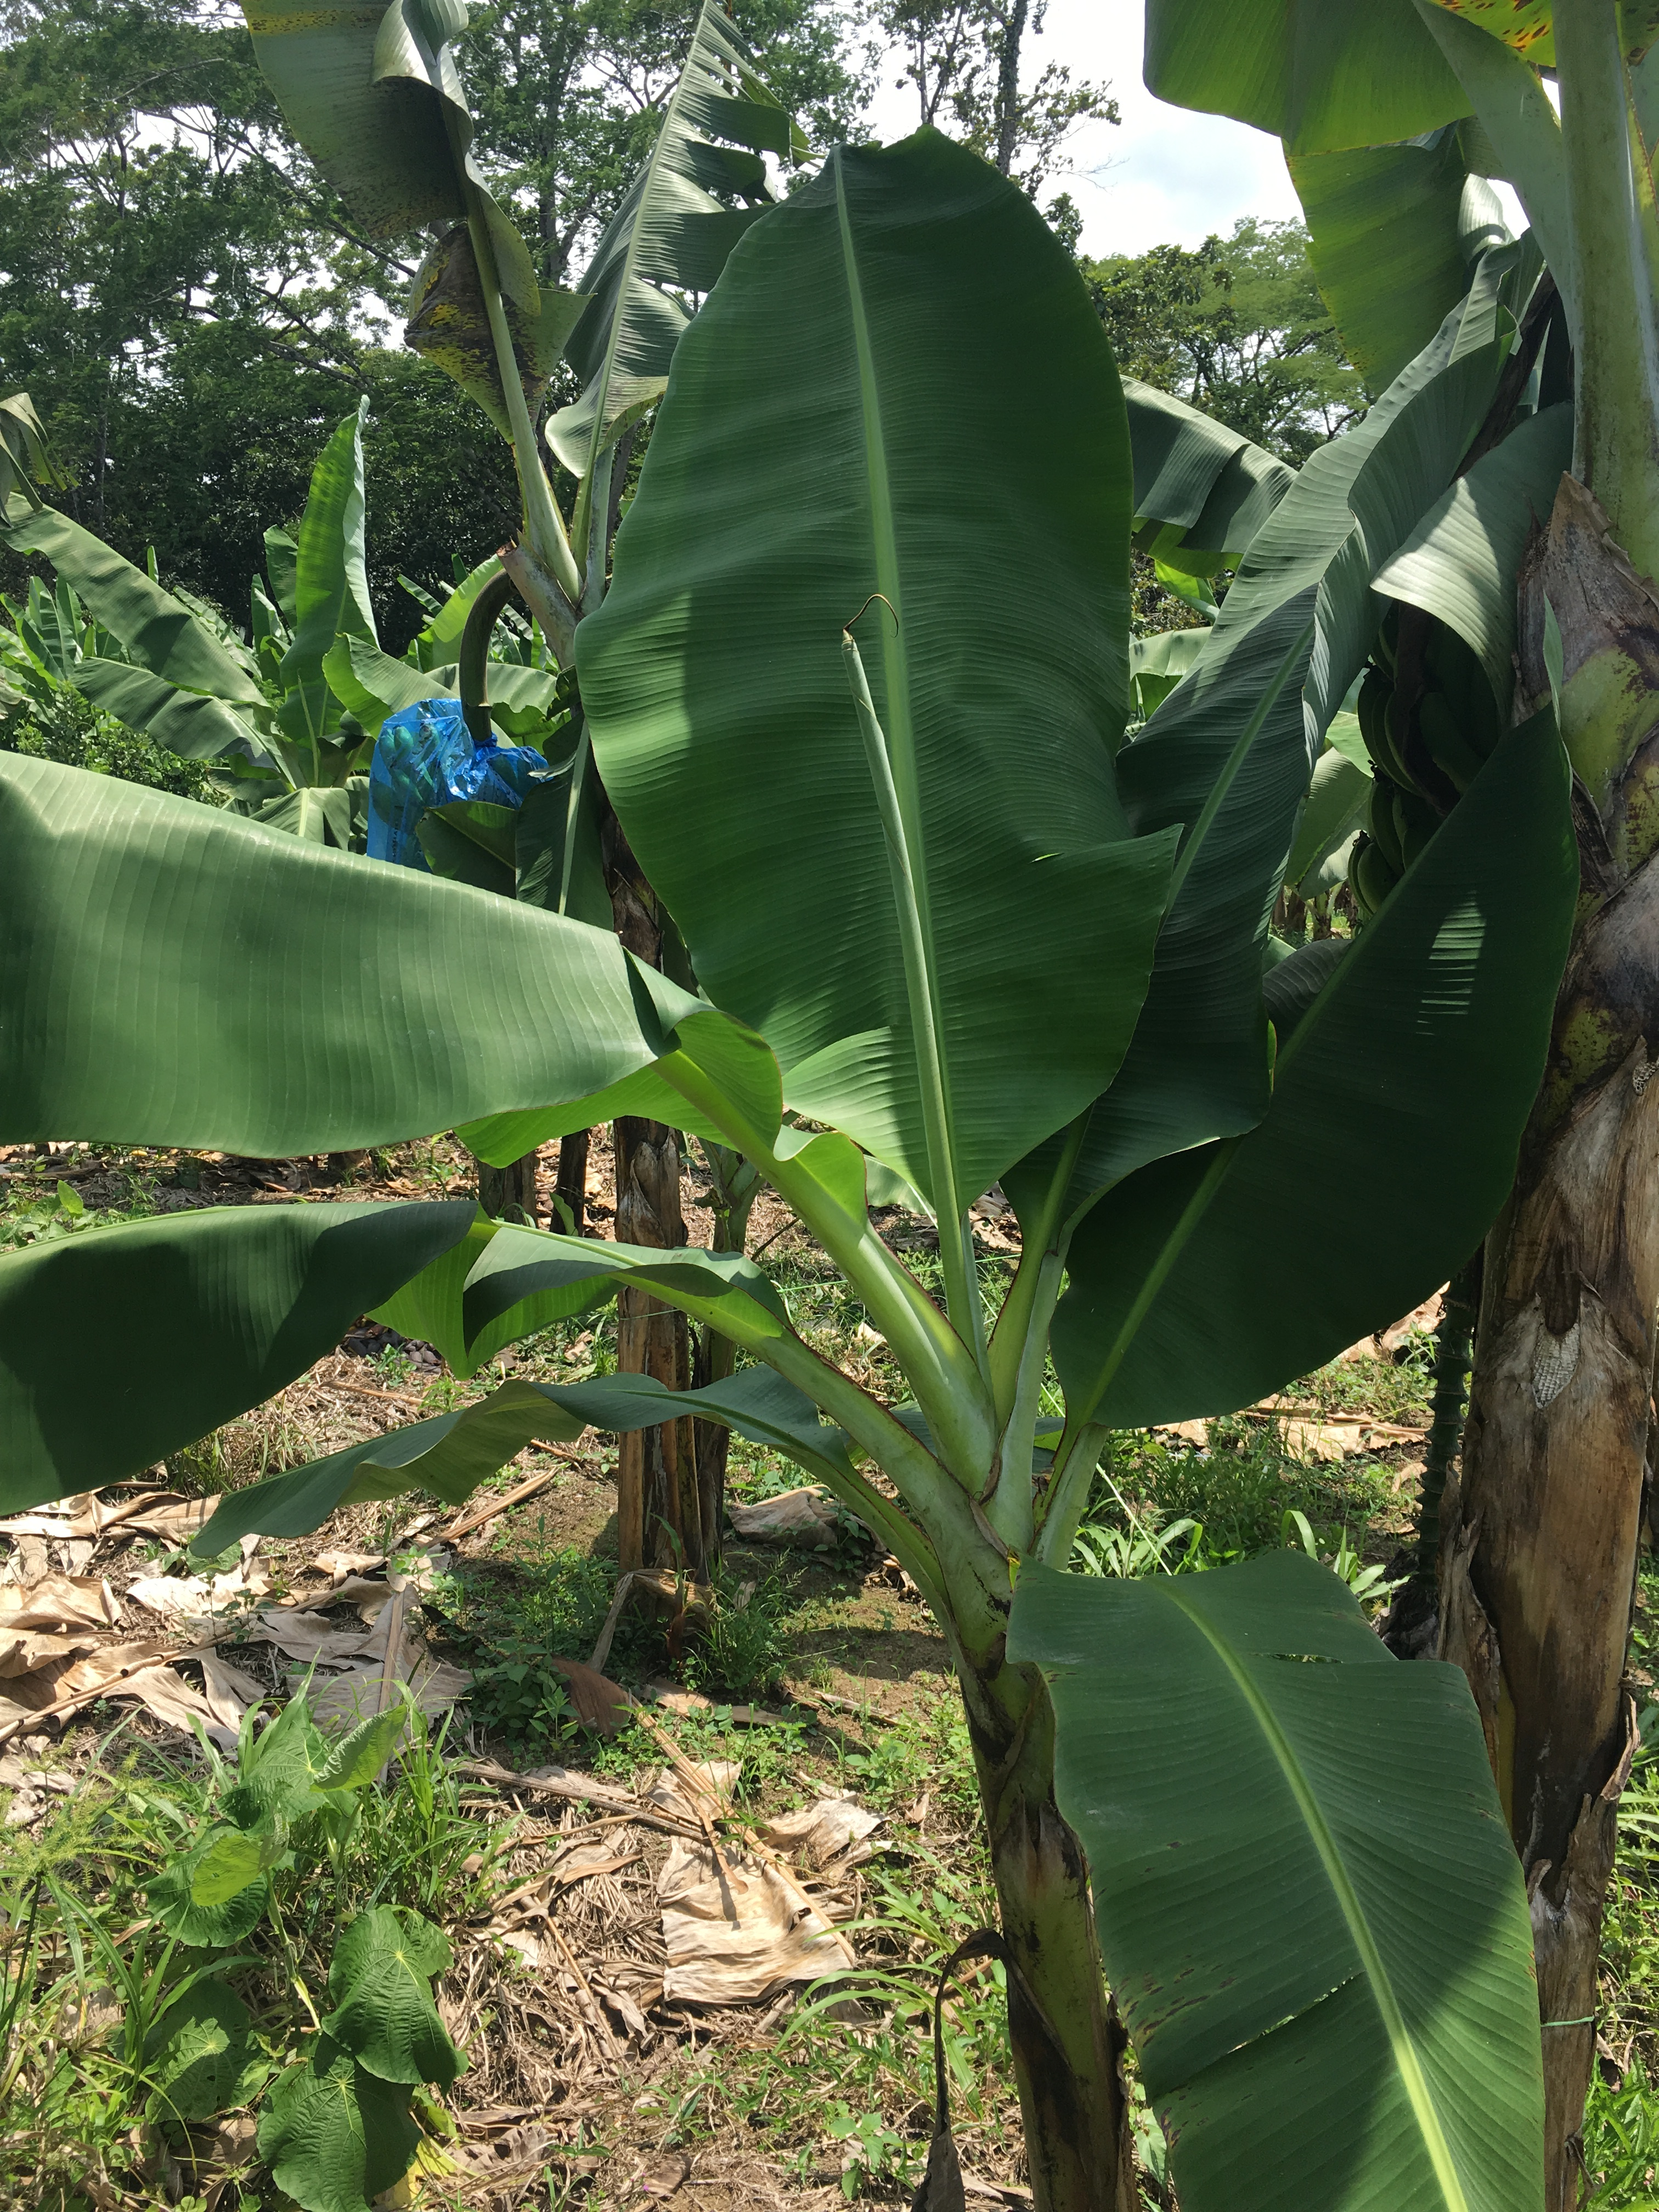candleleafs: (842, 594, 983, 1369)
